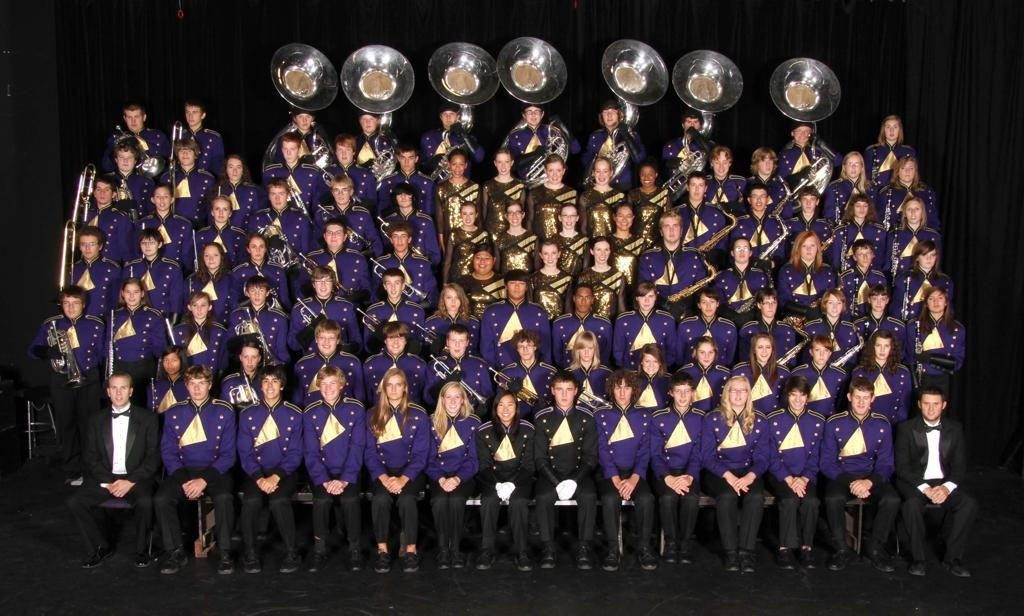human_face: (921, 392, 941, 420), (612, 379, 632, 405), (385, 373, 403, 401), (110, 377, 128, 405), (320, 375, 340, 400), (786, 386, 806, 410), (496, 394, 516, 418), (316, 330, 336, 354), (62, 294, 82, 318), (449, 330, 467, 356), (152, 187, 172, 210), (872, 335, 890, 360), (798, 236, 818, 258), (728, 382, 748, 404), (554, 382, 574, 404), (384, 334, 406, 354), (473, 250, 493, 272), (116, 148, 136, 170), (852, 389, 870, 413), (443, 388, 461, 412), (546, 160, 564, 184), (240, 348, 258, 372), (262, 374, 280, 398), (268, 185, 286, 209), (124, 108, 142, 132), (280, 139, 298, 163), (812, 341, 830, 364), (661, 218, 679, 241), (312, 275, 332, 295), (332, 183, 352, 203), (926, 290, 944, 312), (844, 155, 862, 177), (672, 383, 690, 405), (699, 294, 717, 316), (442, 289, 460, 311), (334, 142, 352, 164), (188, 377, 206, 399), (190, 296, 208, 318), (79, 234, 97, 256), (202, 246, 220, 268), (246, 238, 264, 260), (697, 342, 713, 366), (574, 286, 590, 310), (592, 241, 608, 264), (390, 230, 408, 250), (398, 150, 416, 170), (162, 354, 180, 374), (246, 286, 264, 306), (138, 236, 156, 256), (825, 293, 841, 315), (751, 188, 767, 210), (733, 240, 749, 262), (761, 295, 777, 317), (754, 338, 770, 360), (642, 352, 658, 374), (638, 290, 654, 312), (688, 177, 704, 199), (593, 160, 609, 182), (326, 224, 342, 246), (560, 206, 576, 228), (124, 283, 140, 305), (212, 199, 228, 221), (94, 180, 110, 202), (226, 158, 242, 180), (495, 153, 511, 174), (868, 293, 886, 311), (524, 106, 542, 124), (899, 160, 915, 180), (856, 246, 872, 266), (757, 153, 773, 173), (638, 167, 654, 187), (712, 154, 728, 174), (385, 276, 401, 296), (542, 244, 558, 264), (506, 205, 522, 225), (460, 206, 476, 226), (517, 339, 533, 359), (906, 200, 920, 222), (186, 104, 200, 126), (800, 193, 816, 212), (616, 207, 630, 228), (450, 157, 464, 178), (794, 124, 810, 142), (508, 279, 526, 295), (360, 114, 376, 132), (176, 146, 192, 164), (920, 248, 934, 268), (884, 119, 898, 139), (852, 198, 866, 218), (295, 113, 311, 129), (602, 106, 616, 124), (578, 340, 590, 360), (396, 191, 412, 206), (684, 116, 698, 132), (440, 110, 454, 124)
